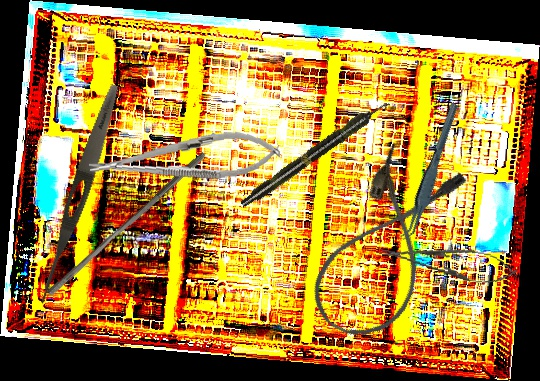Cannula: (299, 136, 474, 355)
Dressing Forceps: (33, 81, 125, 308)
Handpiece: (237, 96, 394, 211)
Needle Holder: (87, 126, 282, 191), (377, 235, 520, 289)
Pusher: (45, 144, 208, 303)
Tissue Forceps: (387, 101, 474, 244)
